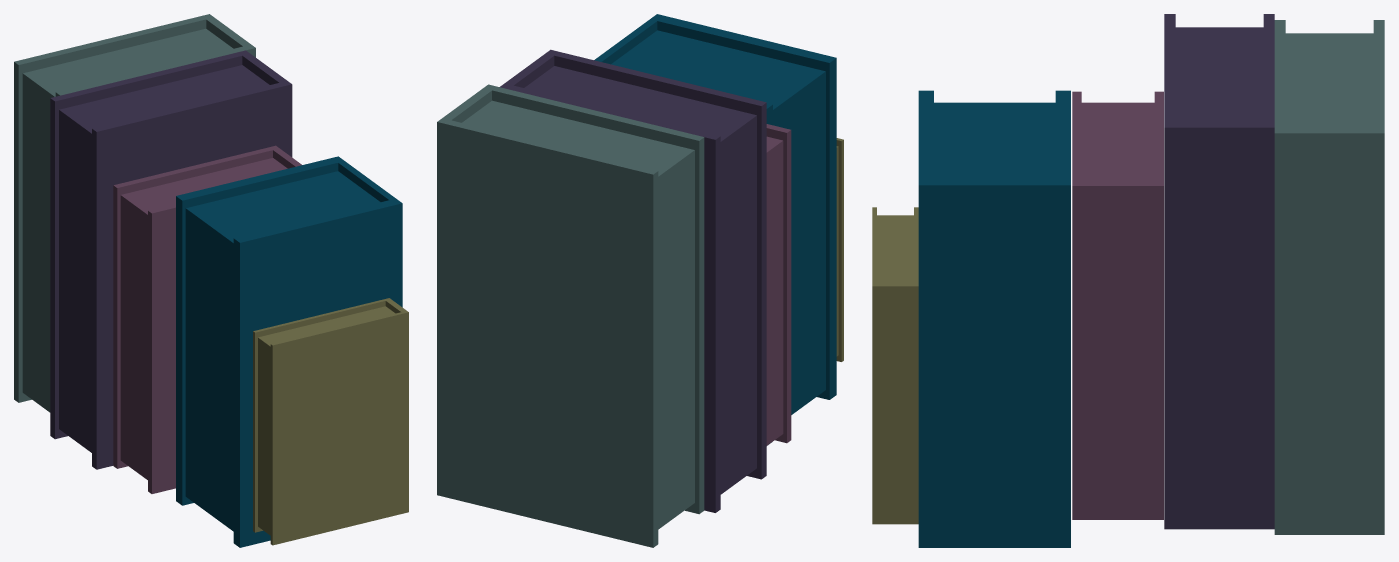
The model's file is book_bundle_2.fbx.
3 renders of one model, left to right at view 1: azimuth 30°, elevation 25°; view 2: azimuth 150°, elevation 25°; view 3: azimuth 270°, elevation 25°, orthographic. The views are drawn at different scales.
Parts seen in each view (by area): view 1: Book_15, Book_12, Book_16, Book_14, Book_13; view 2: Book_13, Book_12, Book_15, Book_14, Book_16; view 3: Book_15, Book_12, Book_13, Book_14, Book_16.
Part boxes in pixels (box(x1,y1,x2,y2)): Book_15: box(176, 156, 402, 547); Book_12: box(50, 50, 292, 469); Book_16: box(253, 298, 408, 545); Book_14: box(113, 145, 301, 493); Book_13: box(14, 14, 255, 412); Book_13: box(437, 84, 704, 547); Book_12: box(499, 49, 766, 512); Book_15: box(594, 14, 836, 442); Book_14: box(766, 124, 791, 445); Book_16: box(836, 138, 843, 361); Book_15: box(918, 90, 1070, 547); Book_12: box(1164, 14, 1274, 529); Book_13: box(1274, 20, 1384, 534); Book_14: box(1072, 91, 1163, 519); Book_16: box(872, 207, 918, 524).
Size of the model in its own units: 90.37 by 147 by 164.
